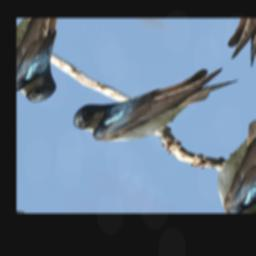Swallow: (66, 29, 247, 173)
